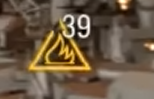1fire: (27, 40, 92, 73)
